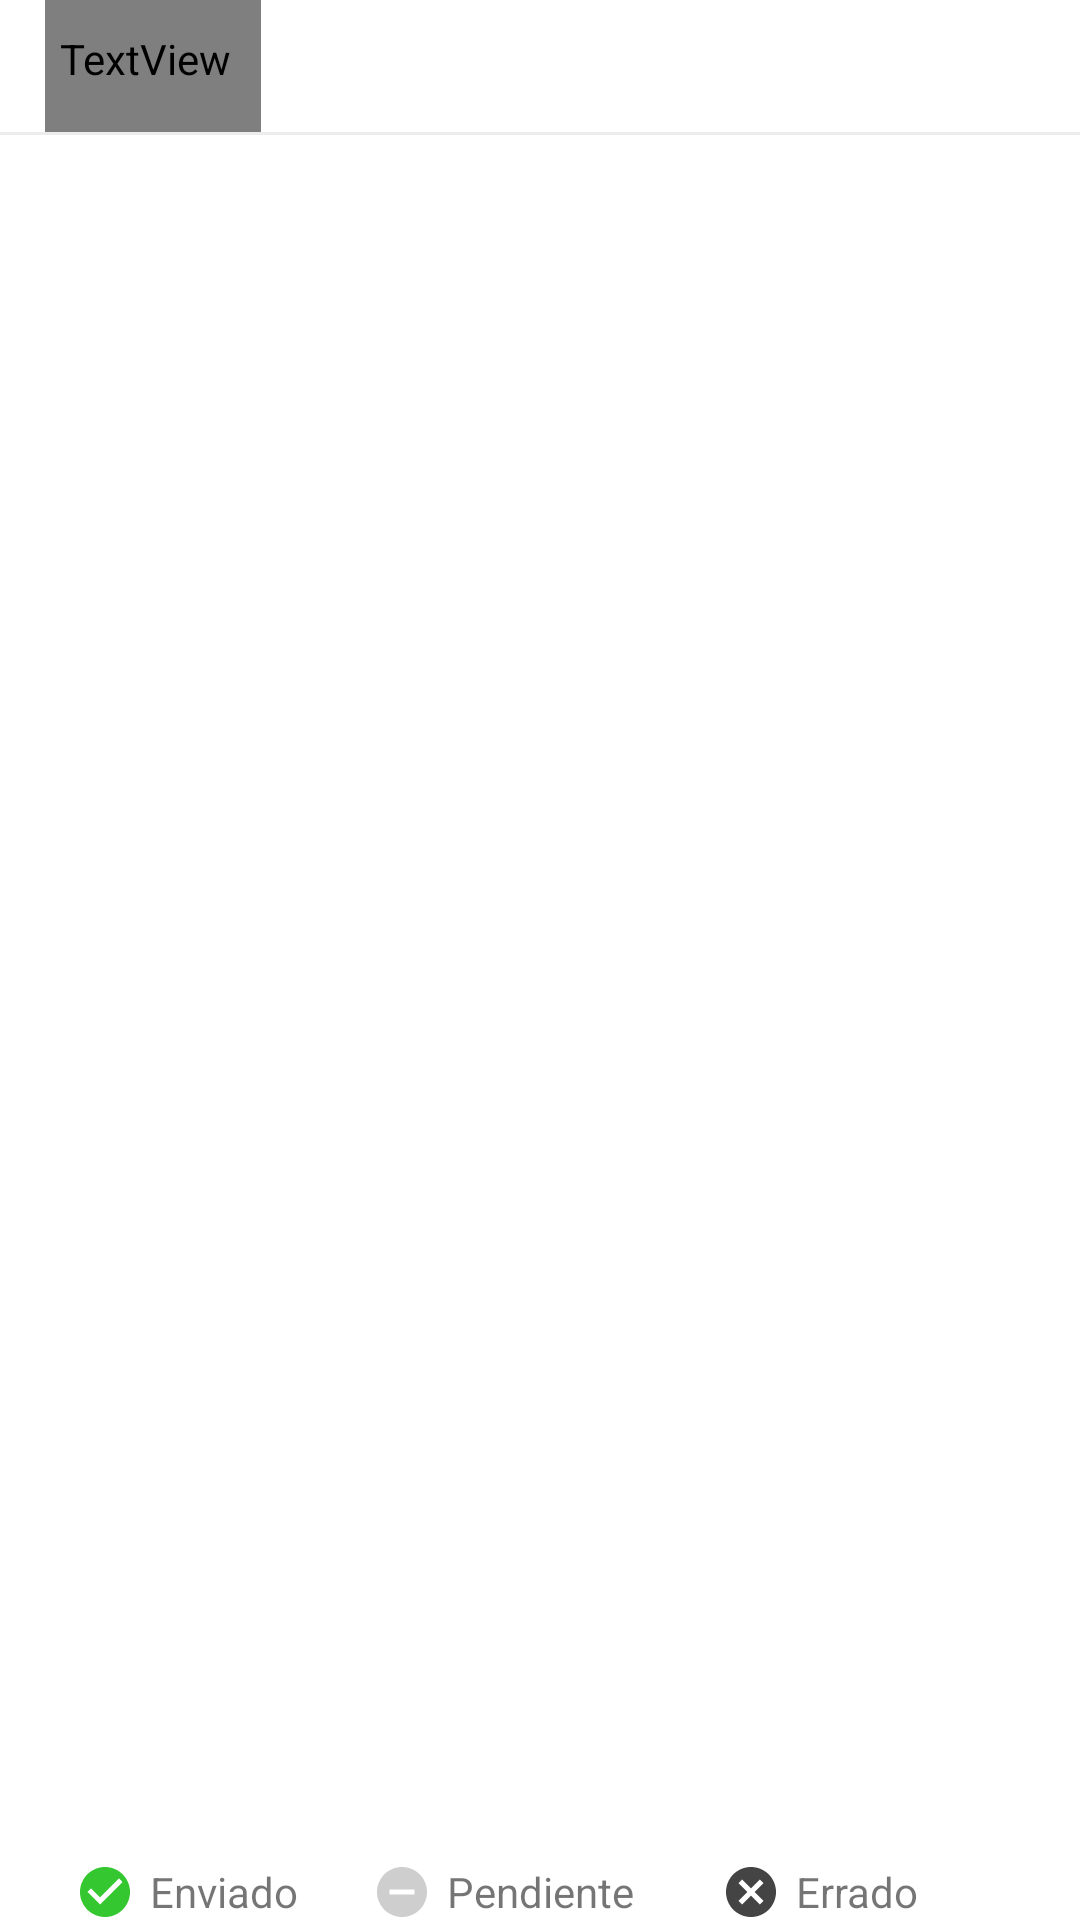

Icons on this 1080*1920 Android screen, each with the point to tap as point (x, y):
cancel: point (751, 1892)
check: point (105, 1892)
nocheck: point (402, 1892)
